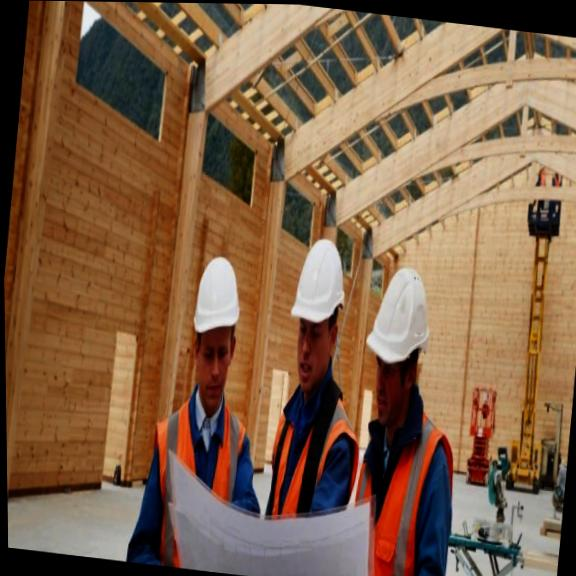safety_vest: (137, 390, 257, 575), (347, 407, 465, 576), (264, 371, 367, 533)
